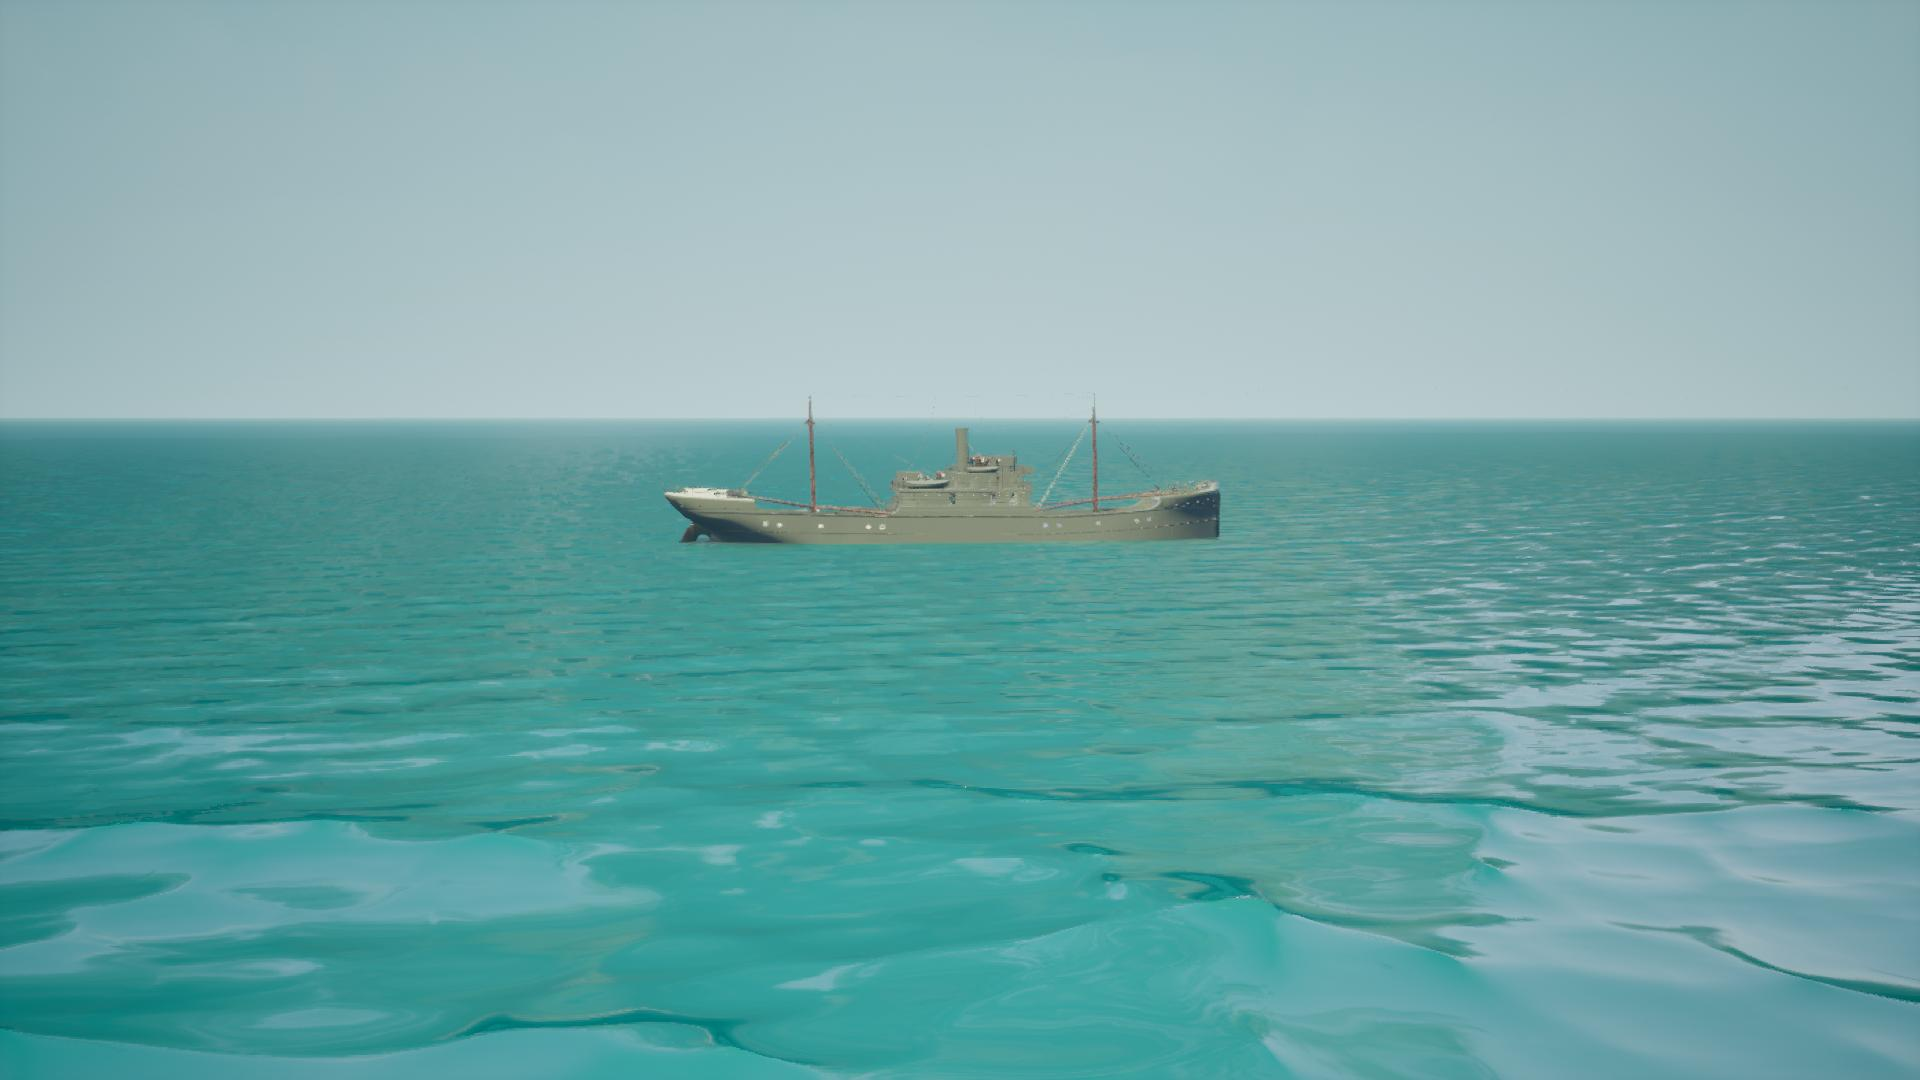Fishing Boat: (669, 398, 1221, 546)
